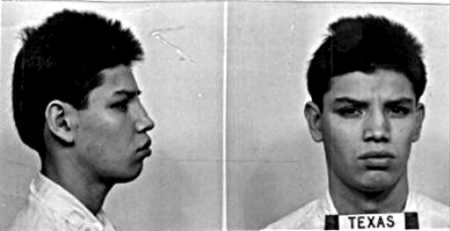Face: (314, 65, 421, 194), (89, 61, 157, 188)
